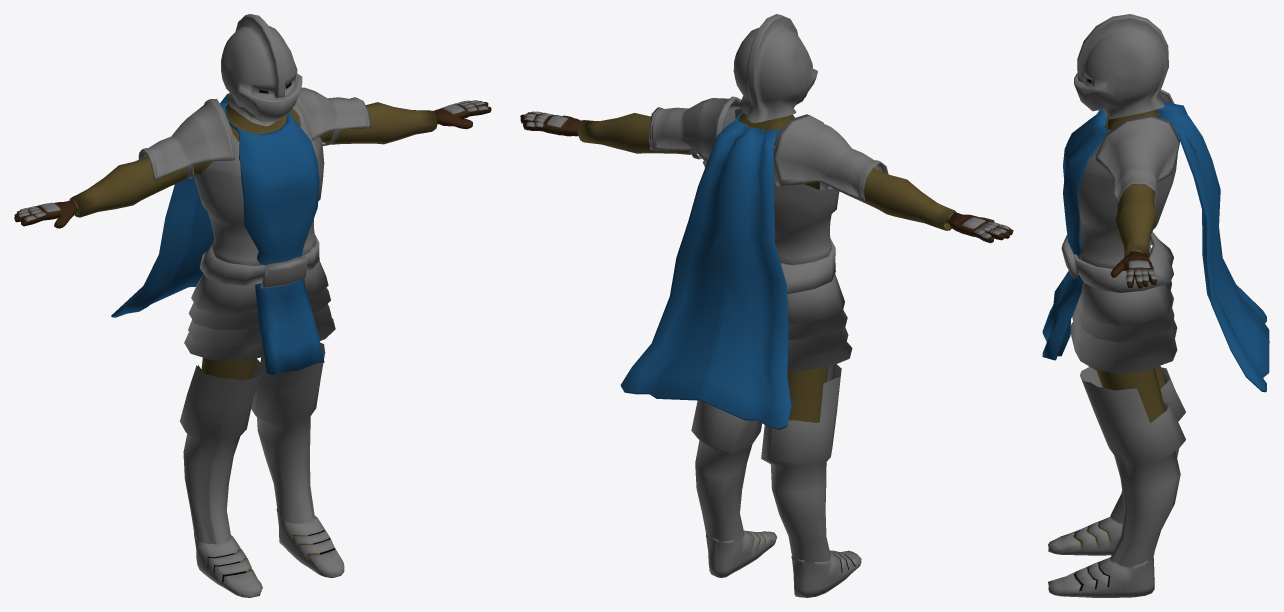
The model's file is FinalExport-enemie.fbx.
3 renders of one model, left to right at view 1: azimuth 30°, elevation 25°; view 2: azimuth 150°, elevation 25°; view 3: azimuth 270°, elevation 25°, orthographic. The views are drawn at different scales.
Visible parts, largest first — view 1: Enemy; view 2: Enemy; view 3: Enemy.
Boxes of the visible parts, x1,y1,x2,y2 form: Enemy: (14,14,491,597); Enemy: (520,14,1013,597); Enemy: (1042,14,1269,597).
Size of the model in its own units: 241 by 265 by 98.01.
